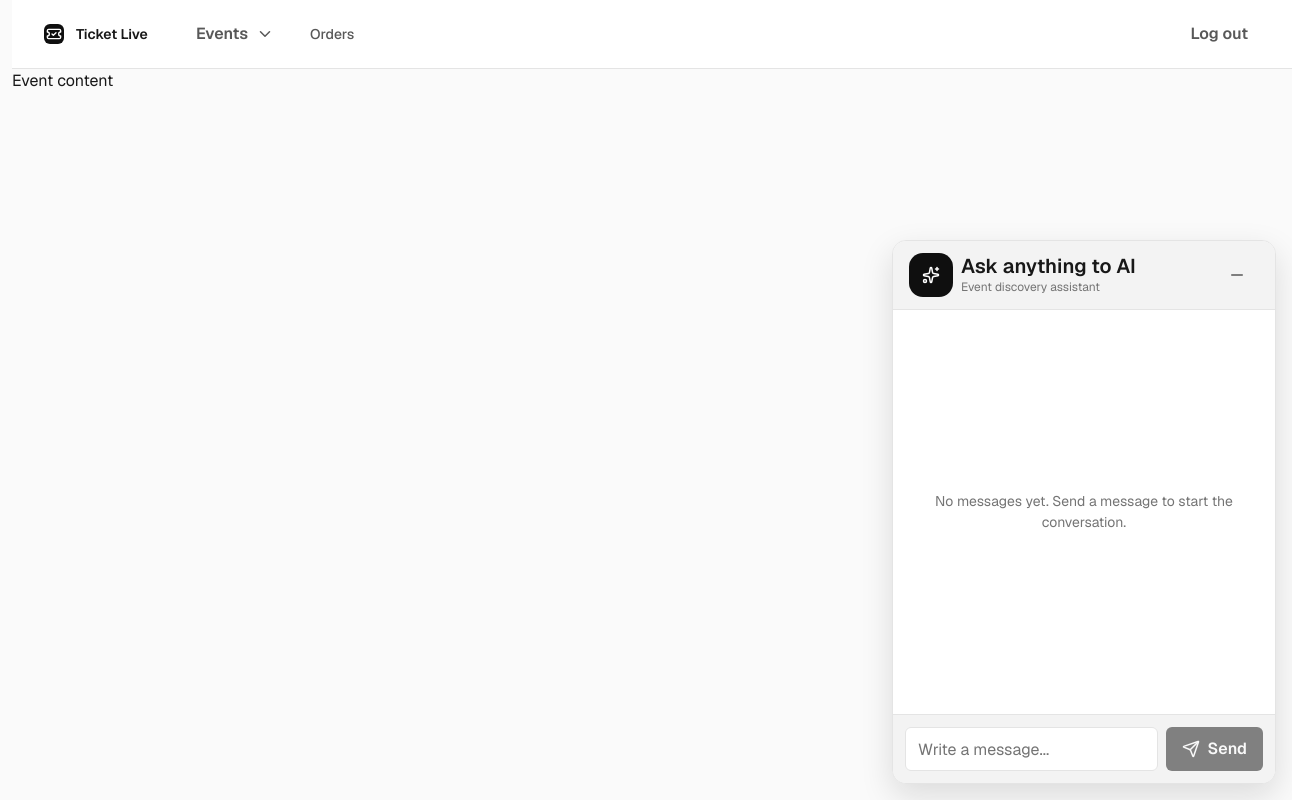
it: AuthenticatedLayout › shows locally sent chat messages in the shared page layout
The width and height of the screenshot is (1292, 800).
Type "Could you help with my ticket?" into the field labelled "message" at (1031, 749), box [905, 727, 1158, 771]
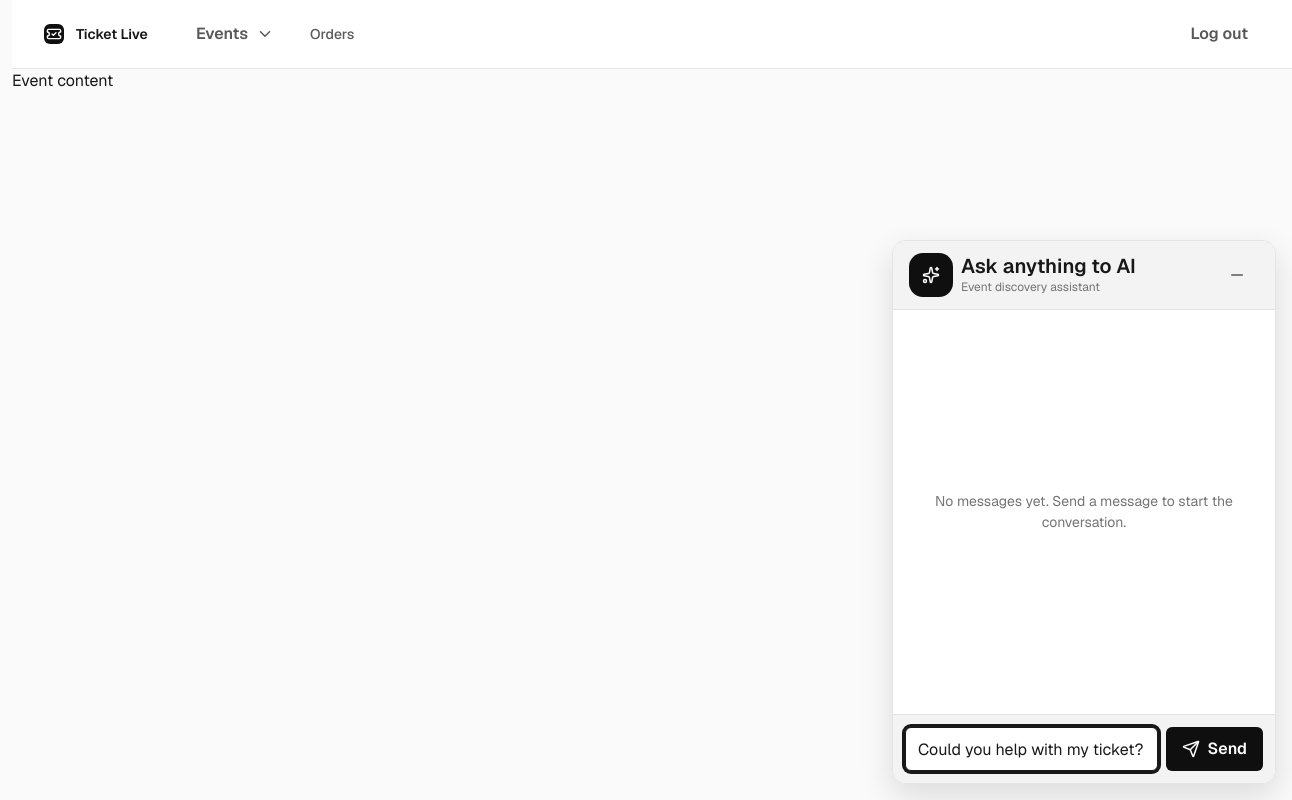
Click the button with aria-label "Send message" at (1214, 749), box [1166, 727, 1263, 771]
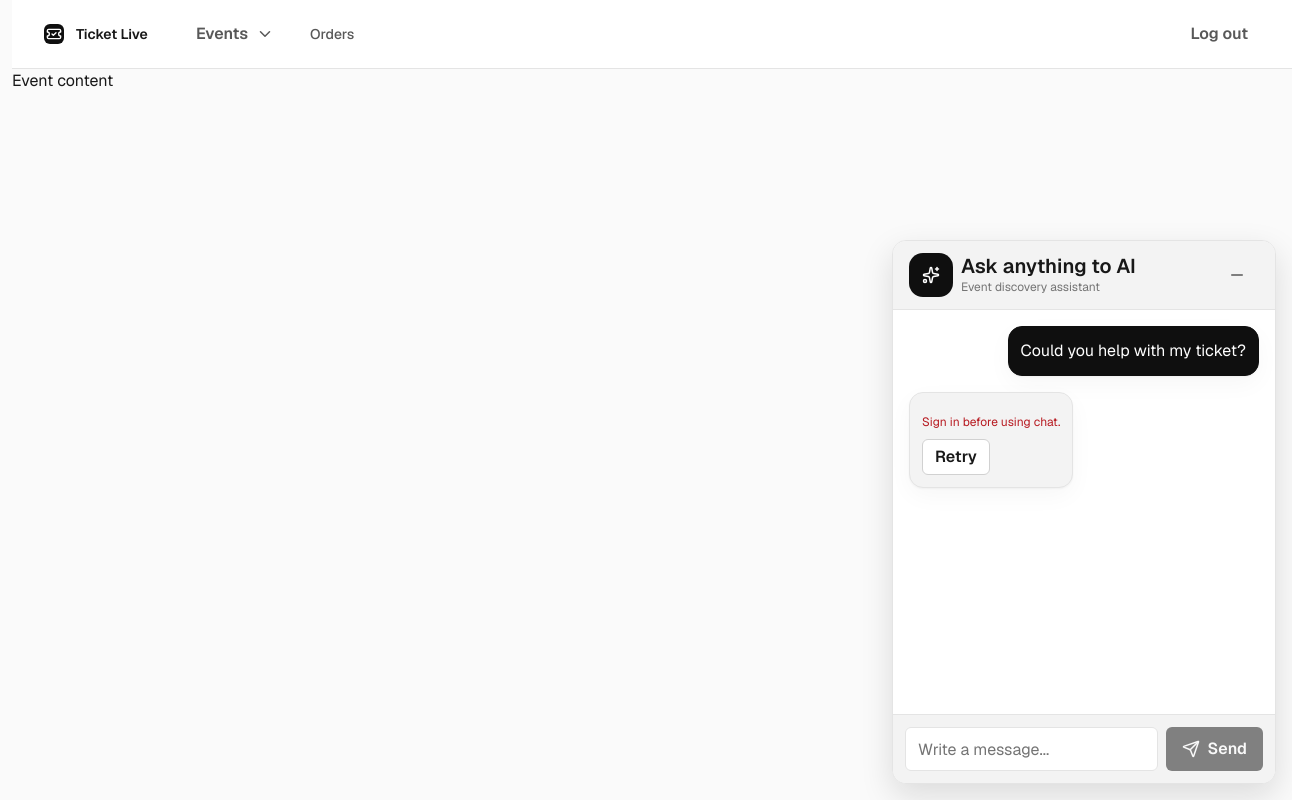
Check: the element named "Conversation" shows "Could you help with my ticket?", box [1021, 340, 1246, 361]
